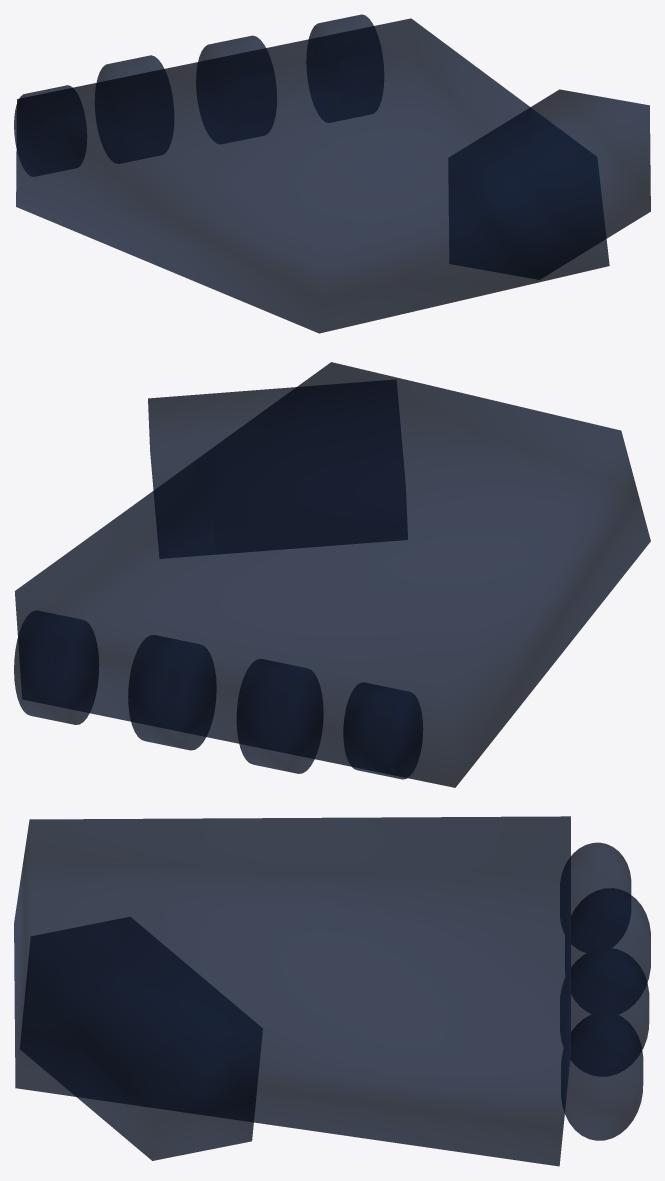
Rendered from right hand.fbx.
3 renders of one model, top to bottom at view 1: azimuth 30°, elevation 25°; view 2: azimuth 150°, elevation 25°; view 3: azimuth 270°, elevation 25°, orthographic. The views are drawn at different scales.
Parts seen in each view (by area): view 1: Right_Hand; view 2: Right_Hand; view 3: Right_Hand.
Boxes of the visible parts, box(x1,y1,x2,y2) form: Right_Hand: box(14, 14, 650, 333); Right_Hand: box(14, 362, 650, 787); Right_Hand: box(14, 816, 650, 1166).
Size of the model in its own units: 187 by 59.46 by 199.
